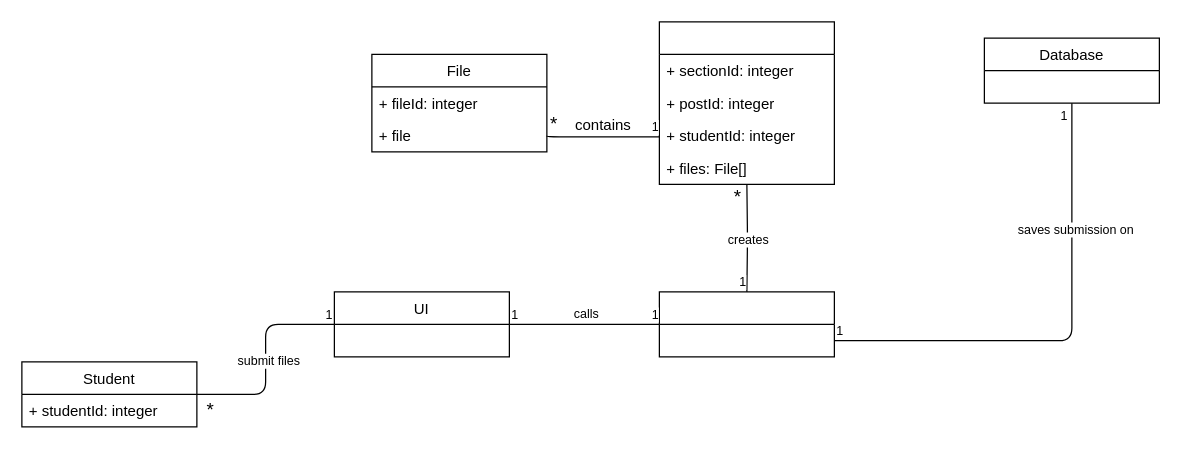
Some shapes in this 1181 by 453 pixel diagram are drawn without their labels. The shapes that lost their labels are listed below. From the top down, each one's box as (x1, y1, x2, y2) in pixels, then its label:
(658, 21, 834, 184): Submission
(658, 291, 834, 357): API
